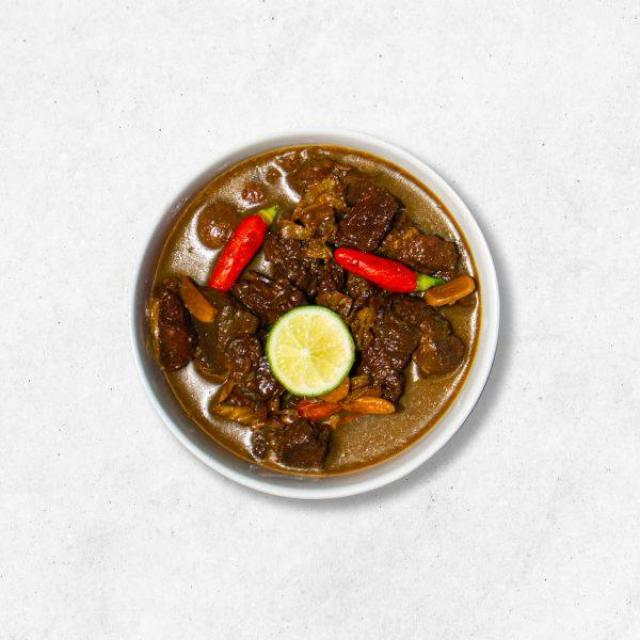Rawon: (129, 151, 483, 472)
